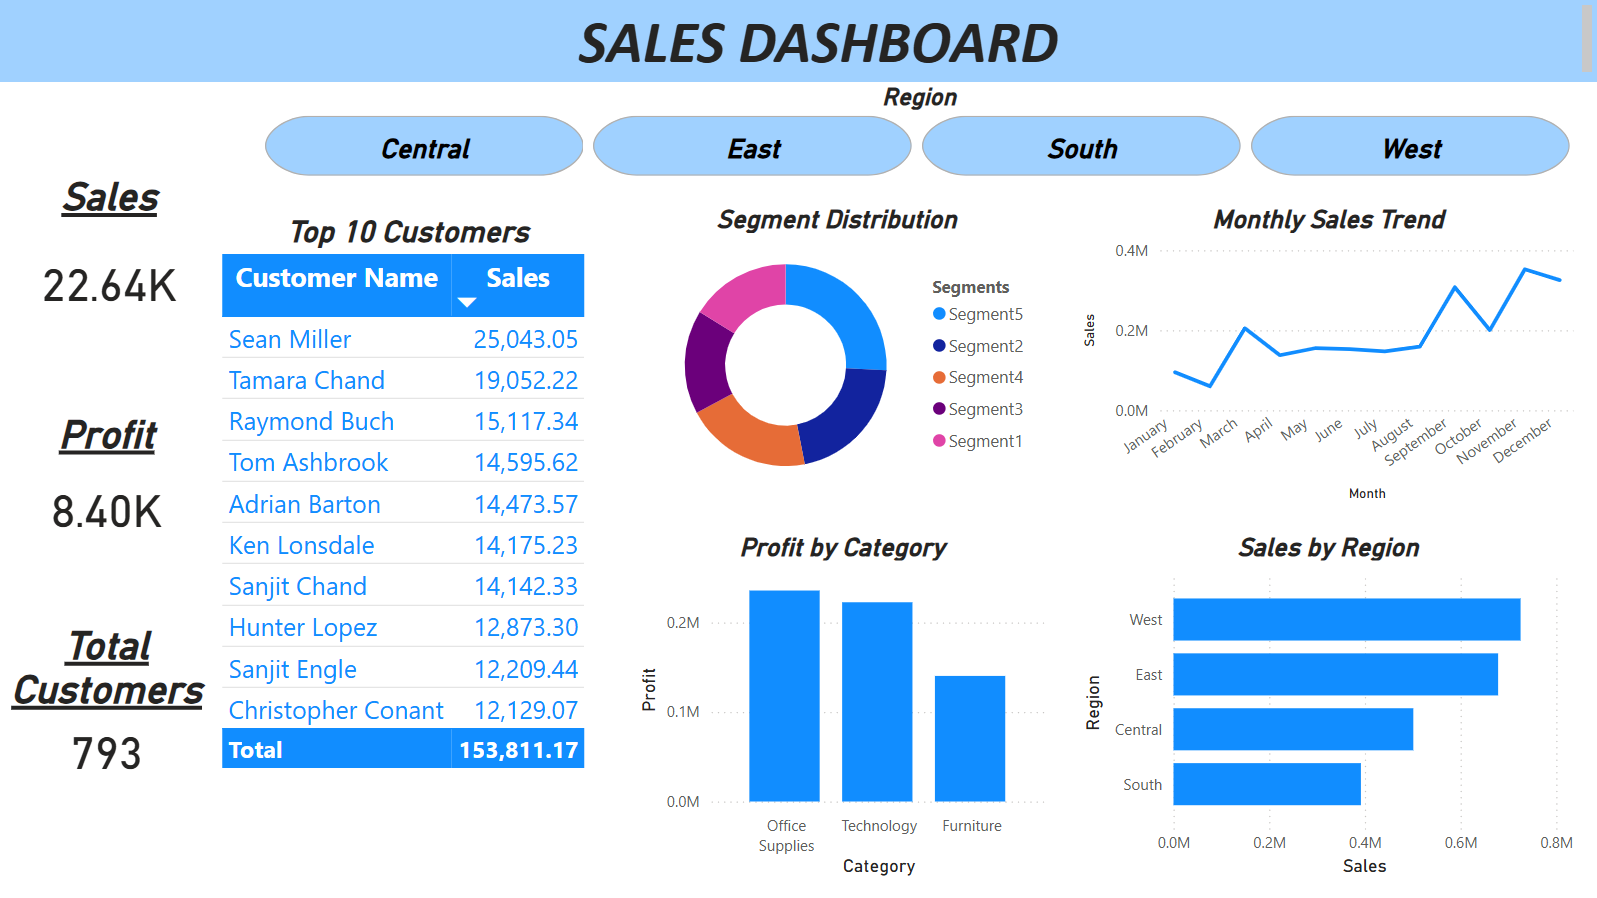

What the dashboard file says about the page in this screenshot:
{"tool":"powerbi","page":{"name":"Page 1","canvas":[1280,720],"ordinal":0},"visuals":[{"type":"barChart","fields":{"Category":["cleaned_sales_data.Region"],"Y":["Sum(cleaned_sales_data.Sales)"]},"box":[862,426,403,281],"z":0},{"type":"lineChart","title":"Monthly Sales Trend","fields":{"Category":["cleaned_sales_data.Order Date.Variation.Date Hierarchy.Month"],"Y":["Sum(cleaned_sales_data.Sales)"]},"box":[862,164,403,243],"z":1000},{"type":"donutChart","title":"Segment Distribution","fields":{"Y":["CountNonNull(Sheet1.Segmentation Group)"],"Category":["Sheet1.Segmentation Group"]},"box":[507,164,326.7,234.9],"z":2000},{"type":"tableEx","title":"Top 10 Customers","fields":{"Values":["cleaned_sales_data.Customer Name","Sum(cleaned_sales_data.Sales)"]},"box":[173.3,171.7,308.3,470],"z":3000},{"type":"kpi","title":"Sales","fields":{"Indicator":["Sum(cleaned_sales_data.Sales)"],"TrendLine":["cleaned_sales_data.Sales"]},"box":[1.7,140,173.3,141.7],"z":4000},{"type":"kpi","title":"Profit","fields":{"Indicator":["cleaned_sales_data.Total Profit"],"TrendLine":["cleaned_sales_data.Profit"]},"box":[0,330,173.3,121.7],"z":5000},{"type":"advancedSlicerVisual","fields":{"Values":["cleaned_sales_data.Region"]},"box":[208.3,66.7,1056.7,80],"z":6000},{"type":"textbox","box":[0,0,1280,66],"z":7000},{"type":"clusteredColumnChart","fields":{"Category":["cleaned_orders_table. Product Category"],"Y":["Sum(cleaned_orders_table.Profit)"]},"box":[507,425.6,336,281.4],"z":9000},{"type":"kpi","title":"Total Customers ","fields":{"Indicator":["Count(Sheet1.Customer ID)"],"TrendLine":["cleaned_orders_table.Sales"]},"box":[0,498.8,173.3,136],"z":9001}]}

Visuals, with their boxes in screenshot pixels (x1, y1, x2, y2), scaled from the page's 1280x720 canvas onto the 1597x898 screenshot:
barChart - cleaned_sales_data.Region x Sum(cleaned_sales_data.Sales): [x1=1075, y1=531, x2=1578, y2=882]
"Monthly Sales Trend" lineChart: [x1=1075, y1=205, x2=1578, y2=508]
"Segment Distribution" donutChart: [x1=633, y1=205, x2=1040, y2=498]
"Top 10 Customers" tableEx: [x1=216, y1=214, x2=601, y2=800]
"Sales" kpi: [x1=2, y1=175, x2=218, y2=351]
"Profit" kpi: [x1=0, y1=412, x2=216, y2=563]
advancedSlicerVisual - cleaned_sales_data.Region: [x1=260, y1=83, x2=1578, y2=183]
textbox: [x1=0, y1=0, x2=1596, y2=82]
clusteredColumnChart - cleaned_orders_table. Product Category x Sum(cleaned_orders_table.Profit): [x1=633, y1=531, x2=1052, y2=882]
"Total Customers " kpi: [x1=0, y1=622, x2=216, y2=792]
